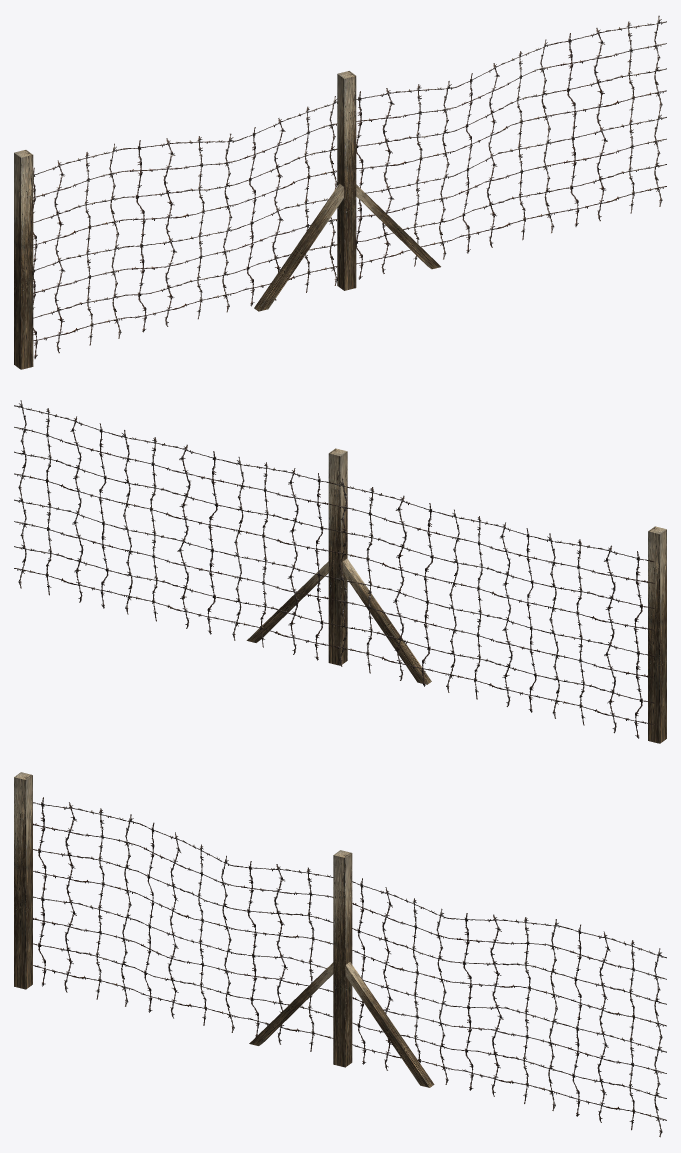
The model's file is BFence1.glb.
3 views of the same model, one above another, from view 1: azimuth 30°, elevation 25°; view 2: azimuth 150°, elevation 25°; view 3: azimuth 330°, elevation 25° (orthographic).
Parts seen in each view (by area): view 1: _BFence1; view 2: _BFence1; view 3: _BFence1.
Boxes of the visible parts, x1,y1,x2,y2 form: _BFence1: (14,15,666,369); _BFence1: (14,400,666,743); _BFence1: (14,772,666,1137).
Size of the model in its own units: 8.06 by 2.5 by 0.2752.
Materials: 2 (2 with a texture image).
